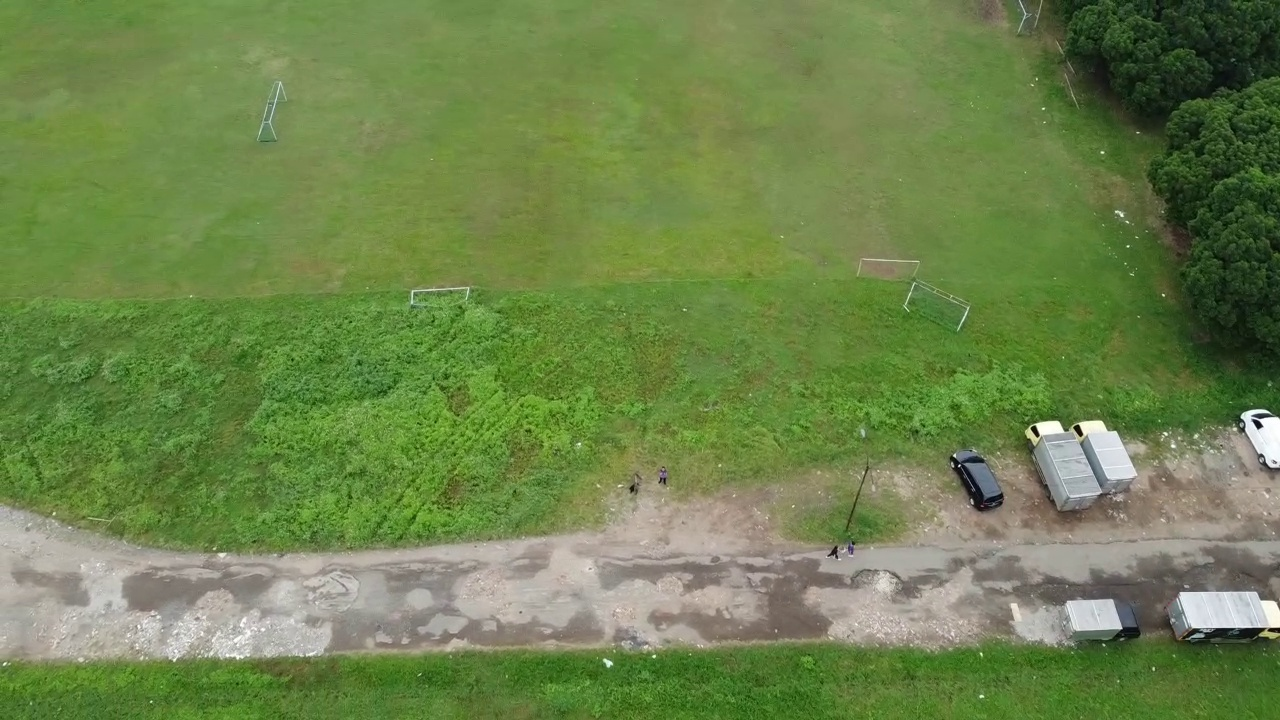mobil: (941, 440, 1006, 515), (1235, 404, 1280, 469)
